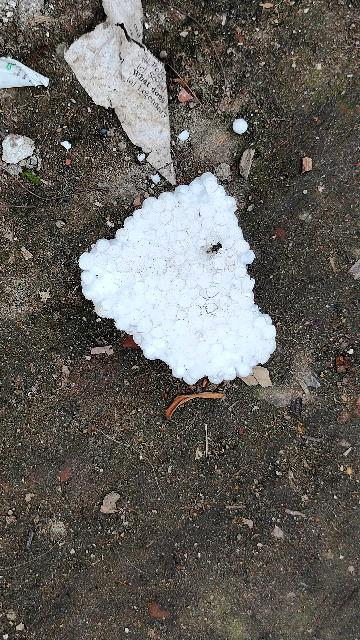cocksheet: (64, 169, 283, 406)
